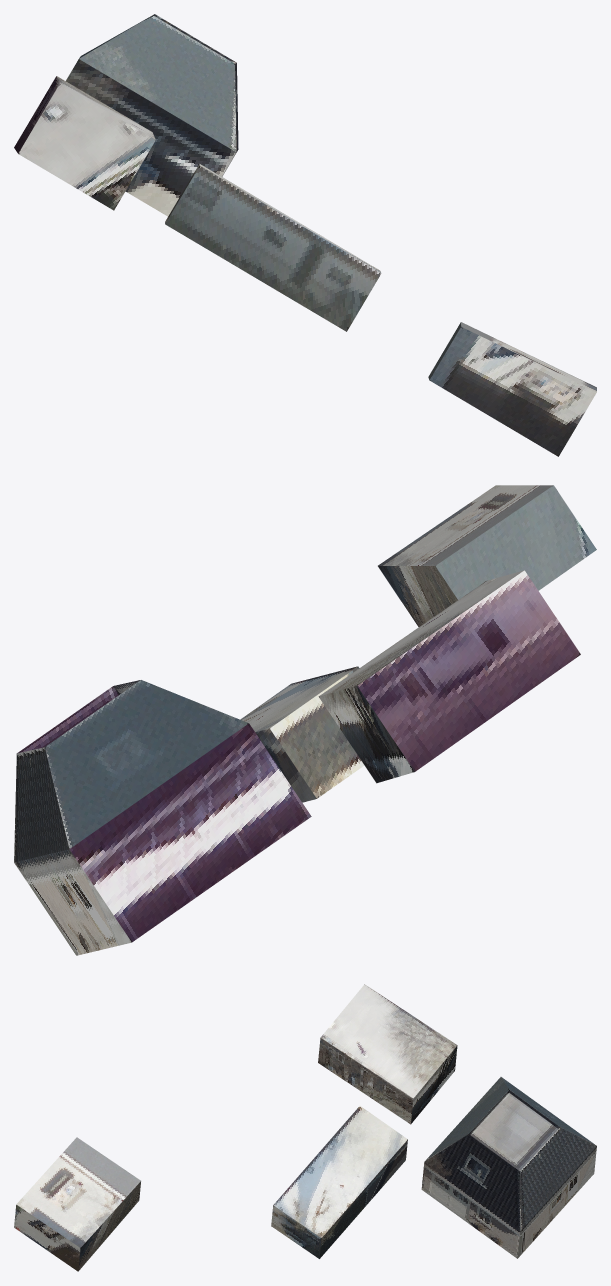
Rendered from 18-268150-55371-0-tex512.glb.
3 views of the same model, one above another, from view 1: azimuth 30°, elevation 25°; view 2: azimuth 150°, elevation 25°; view 3: azimuth 270°, elevation 25° (orthographic). The views are drawn at different scales.
Parts seen in each view (by area): view 1: BAG_0599100010075309, BAG_0599100110028451, BAG_0599100010003465, BAG_0599100010009821; view 2: BAG_0599100010075309, BAG_0599100010009821, BAG_0599100010003465, BAG_0599100110028451; view 3: BAG_0599100010075309, BAG_0599100010009821, BAG_0599100110028451, BAG_0599100010003465.
Boxes of the visible parts, x1,y1,x2,y2 form: BAG_0599100010075309: (66, 14, 238, 216); BAG_0599100110028451: (165, 163, 381, 331); BAG_0599100010003465: (428, 322, 596, 456); BAG_0599100010009821: (14, 76, 155, 210); BAG_0599100010075309: (14, 680, 311, 955); BAG_0599100010009821: (318, 570, 580, 783); BAG_0599100010003465: (378, 485, 596, 626); BAG_0599100110028451: (240, 666, 364, 802); BAG_0599100010075309: (421, 1077, 596, 1258); BAG_0599100010009821: (318, 984, 457, 1124); BAG_0599100110028451: (271, 1106, 407, 1258); BAG_0599100010003465: (14, 1137, 140, 1271).
Bounding box in the file's own units: 14.99 × 11.04 × 30.13.
Materials: 1 (1 with a texture image).
